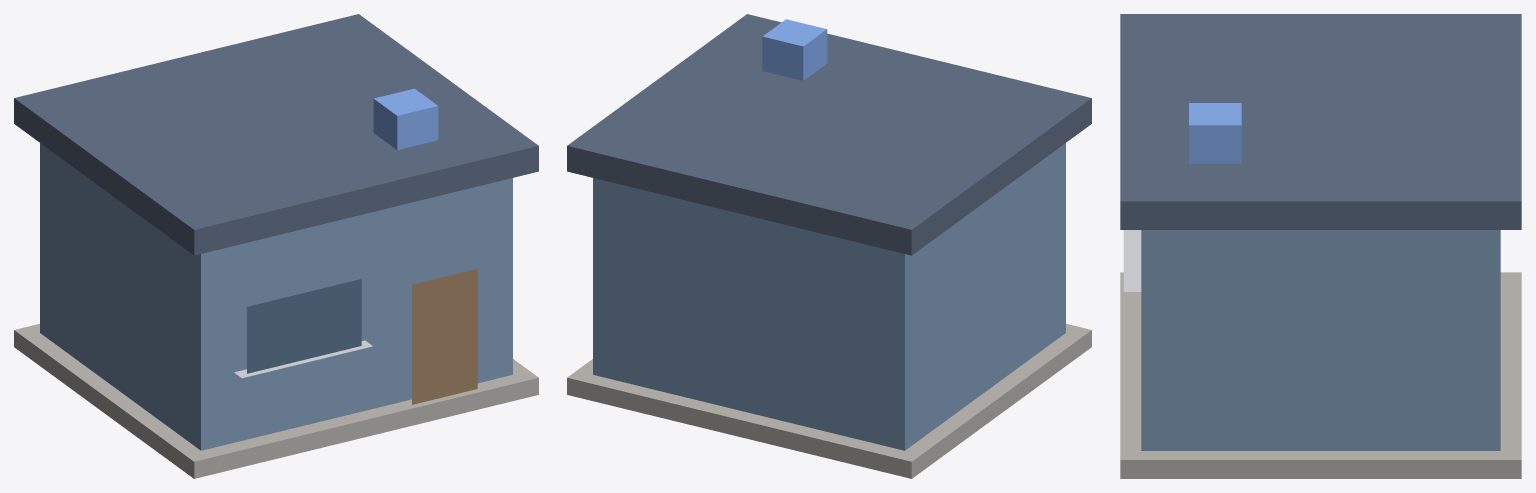
The model's file is police_post.glb.
3 renders of one model, left to right at view 1: azimuth 30°, elevation 25°; view 2: azimuth 150°, elevation 25°; view 3: azimuth 270°, elevation 25°, orthographic. The views are drawn at different scales.
Parts seen in each view (by area): view 1: police_post; view 2: police_post; view 3: police_post.
Boxes of the visible parts, box(x1,y1,x2,y2) form: police_post: box(14, 14, 538, 478); police_post: box(567, 14, 1091, 478); police_post: box(1120, 14, 1521, 478).
Bounding box in the file's own units: 0.42 × 0.33 × 0.38.
